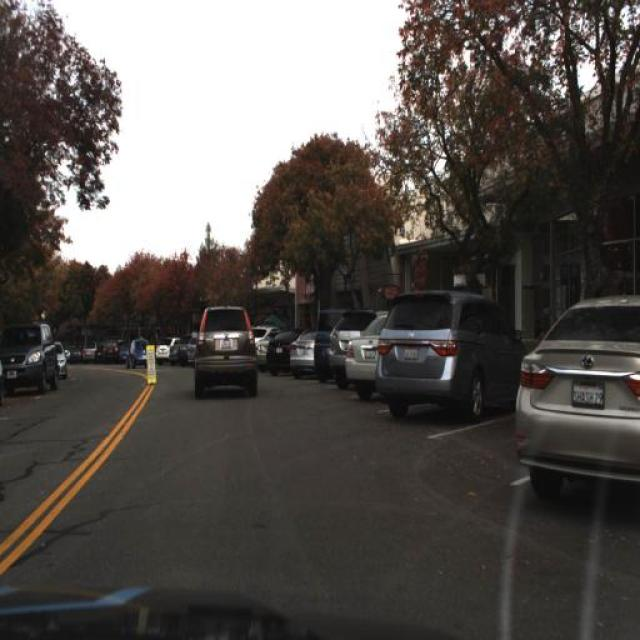car: (516, 290, 640, 514), (372, 288, 522, 421), (190, 303, 260, 402), (2, 324, 58, 394), (327, 304, 365, 386), (347, 308, 382, 397), (312, 305, 332, 384), (288, 326, 316, 374), (267, 331, 295, 377), (251, 323, 273, 371), (126, 338, 156, 367), (258, 330, 271, 376), (57, 337, 69, 377)
